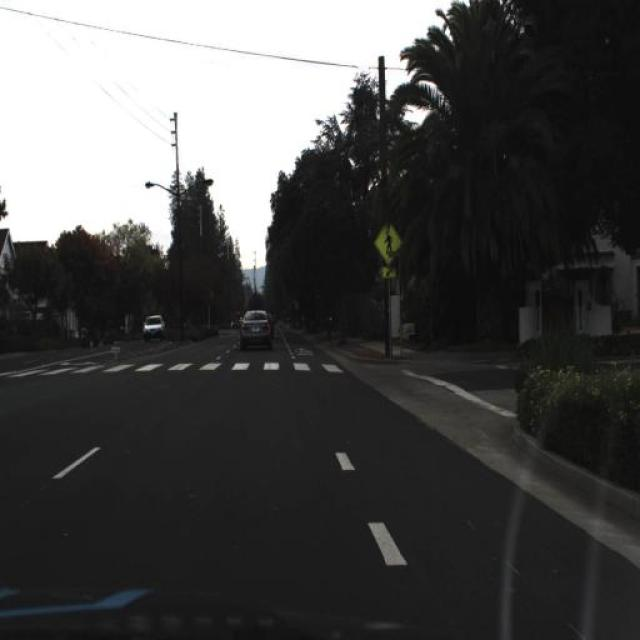car: (228, 293, 276, 367), (142, 310, 166, 340), (264, 300, 274, 340)
